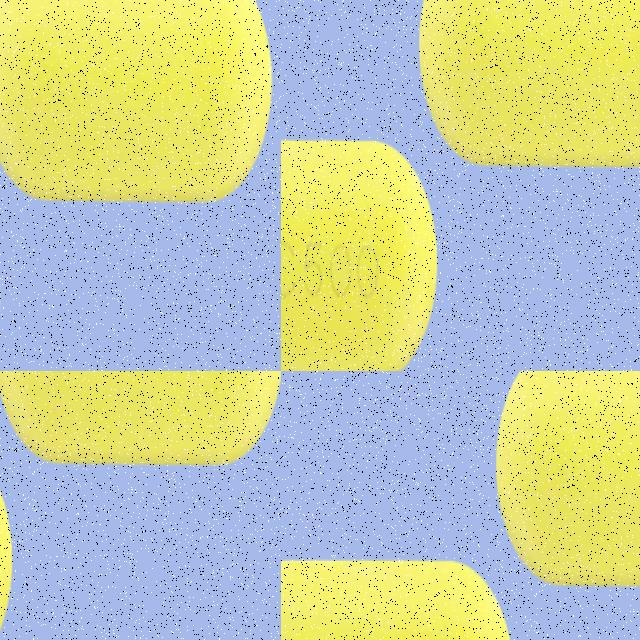Clacid: (493, 371, 640, 593), (281, 548, 521, 640)
Clevote: (428, 0, 640, 371), (281, 0, 392, 371)
